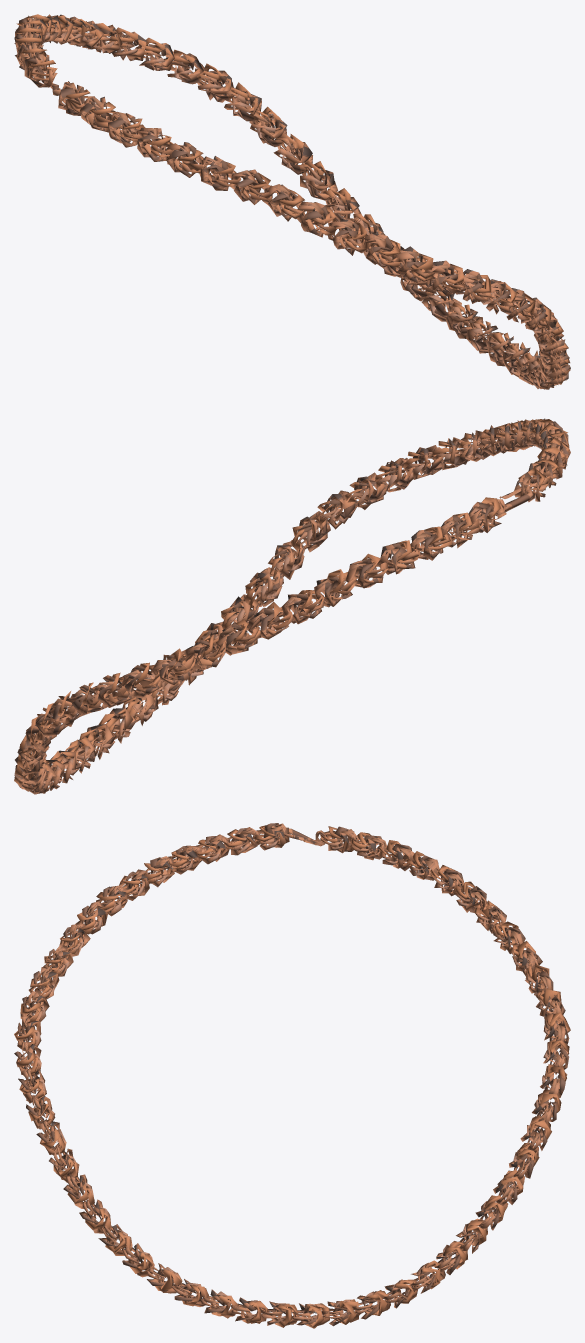
The model's file is necklaceOK.fbx.
3 renders of one model, top to bottom at view 1: azimuth 30°, elevation 25°; view 2: azimuth 150°, elevation 25°; view 3: azimuth 270°, elevation 25°, orthographic. The views are drawn at different scales.
Visible parts, largest first — view 1: Necklace_XL_Gold_0.003; view 2: Necklace_XL_Gold_0.003; view 3: Necklace_XL_Gold_0.003.
Part boxes in pixels (x1,y1,x2,y2): Necklace_XL_Gold_0.003: (14,14,570,389); Necklace_XL_Gold_0.003: (14,418,570,794); Necklace_XL_Gold_0.003: (14,823,570,1328).
Size of the model in its own units: 51.55 by 41.55 by 64.47.
